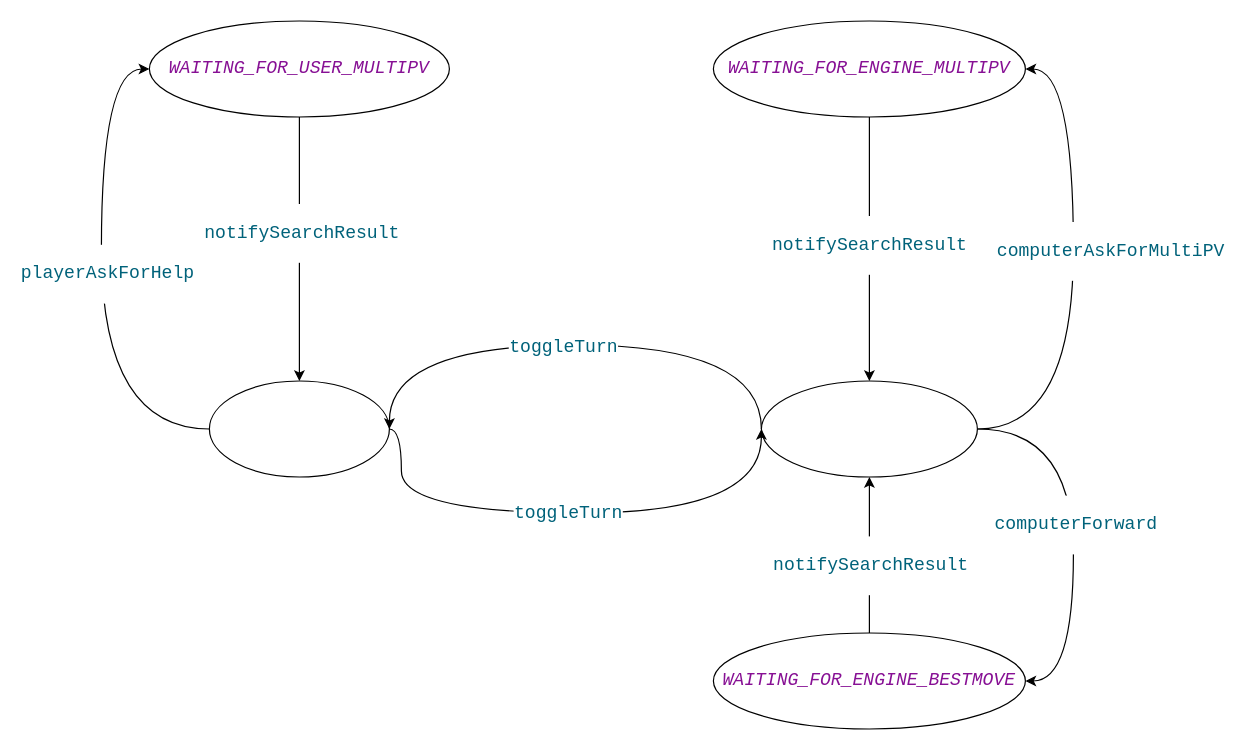
The diagram is 1244 pixels wide and 750 high, and some of its shapes have lost their labels. Here are the shapes that lost their labels. From the top down, the centre of each, then its label:
At pixel 298 428: "WAITING_FOR_USER".
At pixel 868 428: "WAITING_FOR_ENGINE".
